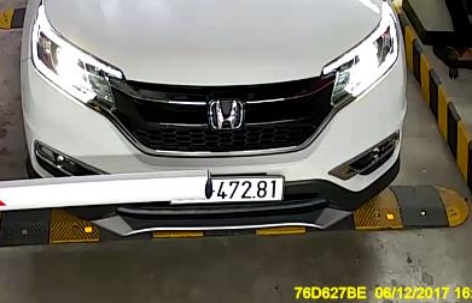plate: (213, 174, 295, 207)
